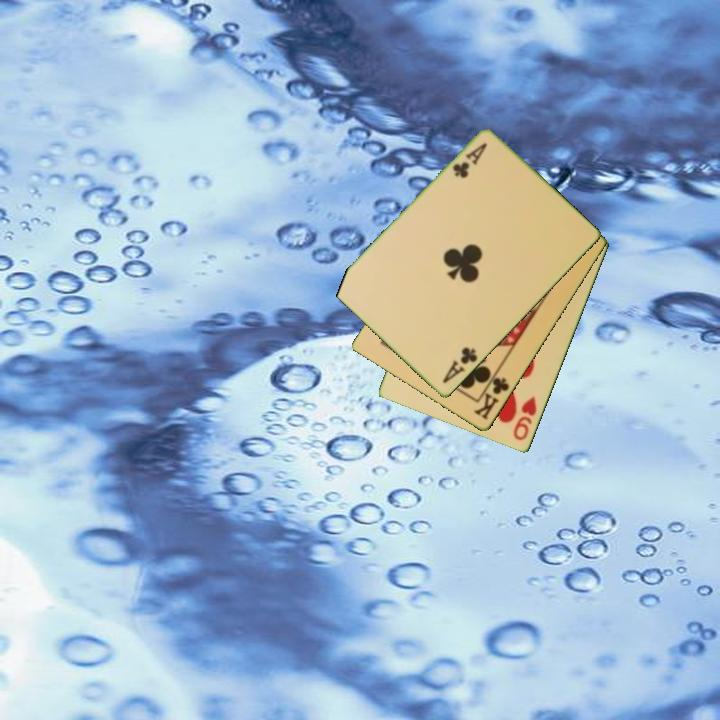9h: (510, 393, 540, 444)
Ac: (439, 344, 480, 387), (449, 140, 490, 182)
Kc: (470, 368, 513, 423)
